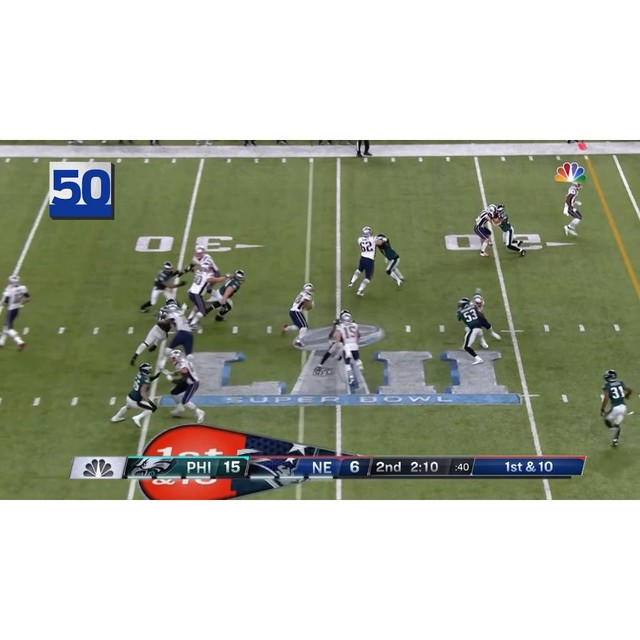american-football-player: (162, 349, 205, 424), (129, 302, 176, 368), (111, 363, 158, 428), (600, 369, 633, 447), (0, 275, 32, 352), (138, 262, 185, 314), (280, 282, 316, 347), (347, 227, 380, 297), (163, 302, 197, 368), (456, 298, 490, 364), (180, 263, 216, 325), (206, 269, 246, 322), (318, 310, 351, 368), (469, 289, 501, 343), (375, 234, 405, 290), (494, 204, 526, 256), (474, 205, 498, 258), (562, 182, 584, 236)
